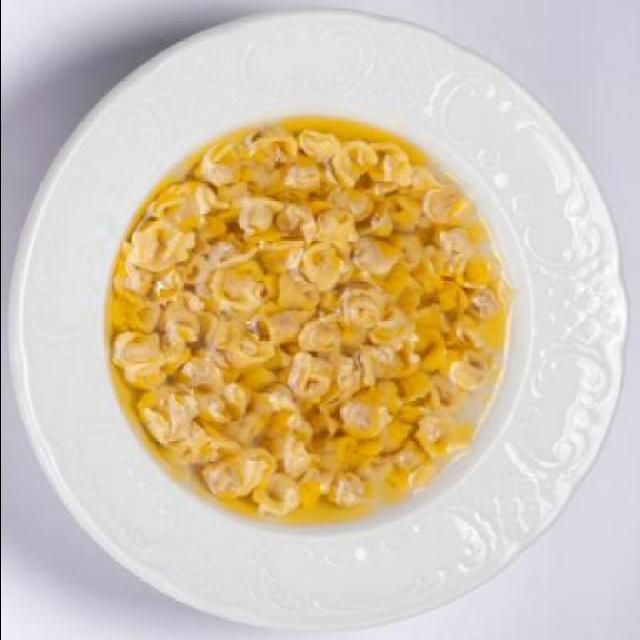Tortellini in broth: (157, 170, 488, 484)
